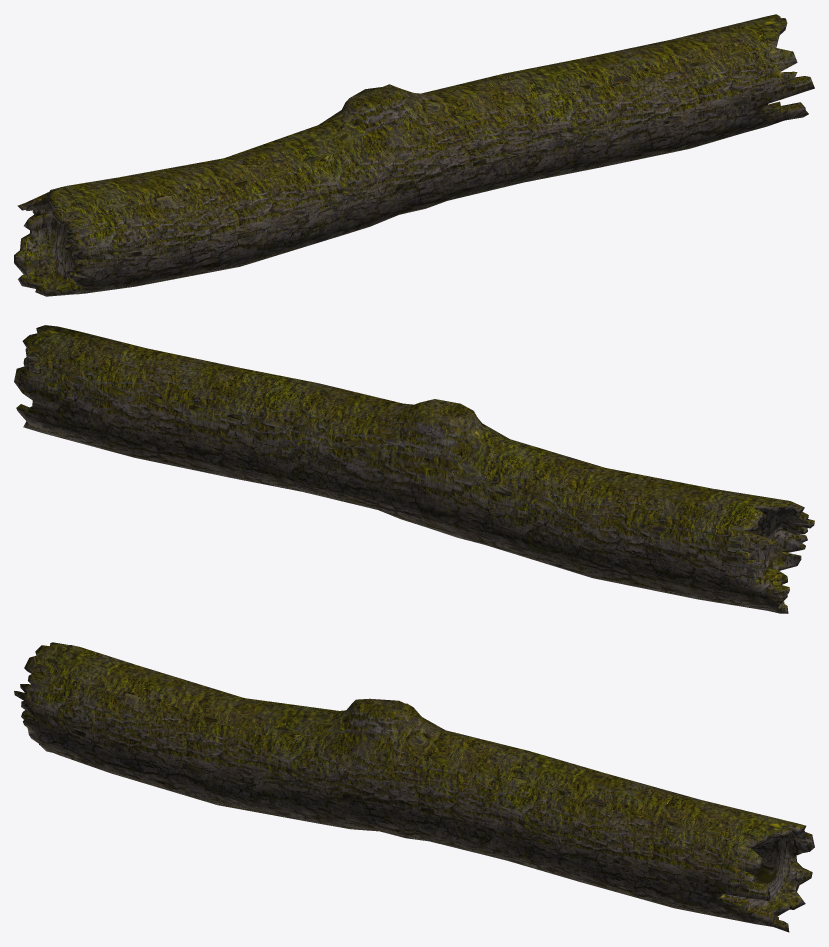
The model's file is tronco_viejo_1.fbx.
3 views of the same model, one above another, from view 1: azimuth 30°, elevation 25°; view 2: azimuth 150°, elevation 25°; view 3: azimuth 330°, elevation 25° (orthographic).
Parts seen in each view (by area): view 1: tronco_viejo_1; view 2: tronco_viejo_1; view 3: tronco_viejo_1.
Boxes of the visible parts, left/top/right/bottom form: tronco_viejo_1: left=14, top=14, right=814, bottom=296; tronco_viejo_1: left=14, top=325, right=814, bottom=613; tronco_viejo_1: left=14, top=642, right=814, bottom=932.
Size of the model in its own units: 689 by 112 by 86.39.
